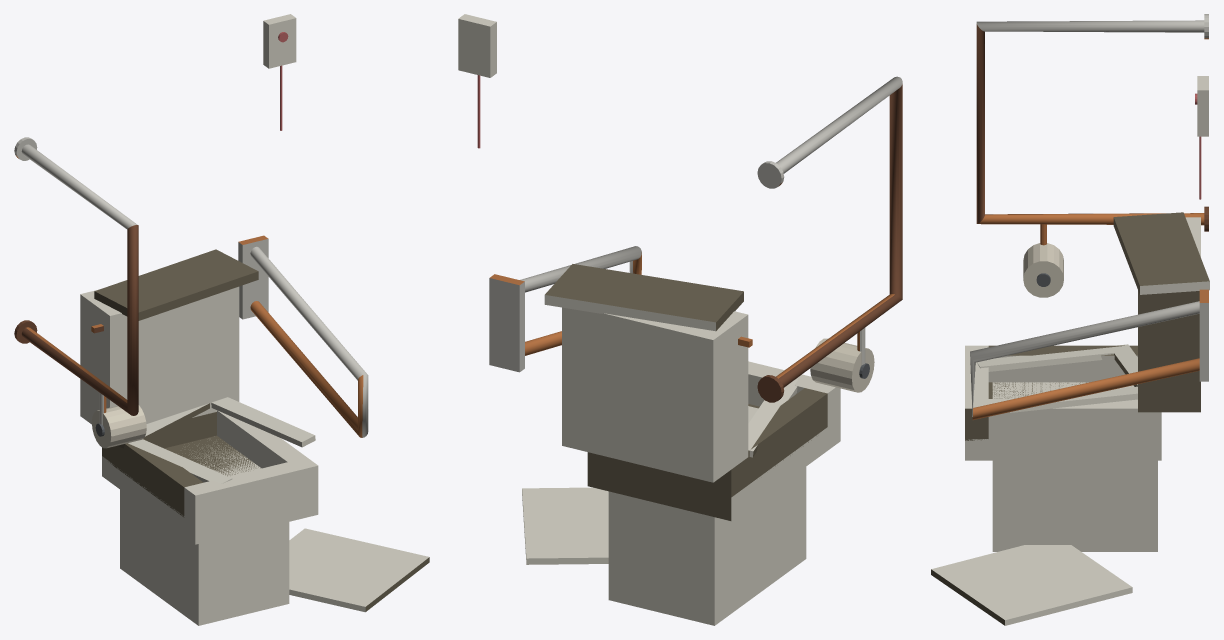
File: toilet_sitting-v2.fbx
The picture shows the model from 3 angles, left to right: view 1: azimuth 30°, elevation 25°; view 2: azimuth 150°, elevation 25°; view 3: azimuth 270°, elevation 25°; orthographic projection. The views are drawn at different scales.
Visible parts, largest first — view 1: 04_ToiletGrabBars_Damaged_Mesh; view 2: 04_ToiletGrabBars_Damaged_Mesh; view 3: 04_ToiletGrabBars_Damaged_Mesh.
Part boxes in pixels (box(x1,y1,x2,y2)): 04_ToiletGrabBars_Damaged_Mesh: box(14, 14, 429, 625); 04_ToiletGrabBars_Damaged_Mesh: box(458, 14, 902, 625); 04_ToiletGrabBars_Damaged_Mesh: box(931, 14, 1209, 625).
Bounding box in the file's own units: 98.48 × 144 × 70.84.
